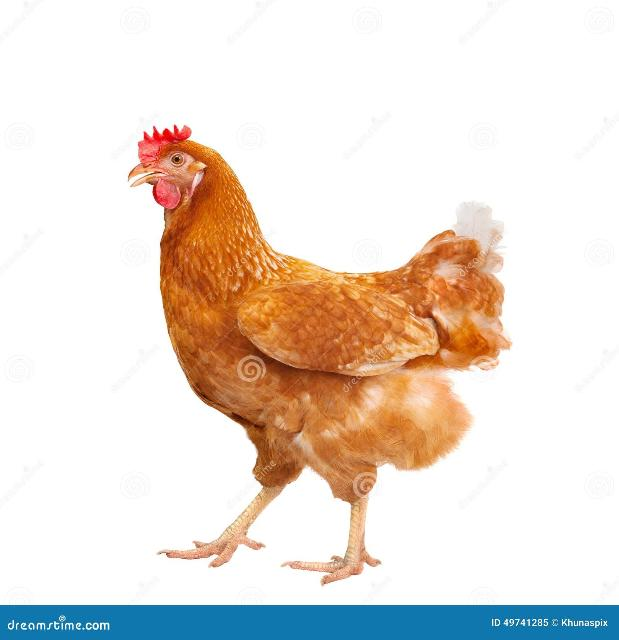Chicken: (128, 124, 511, 586)
